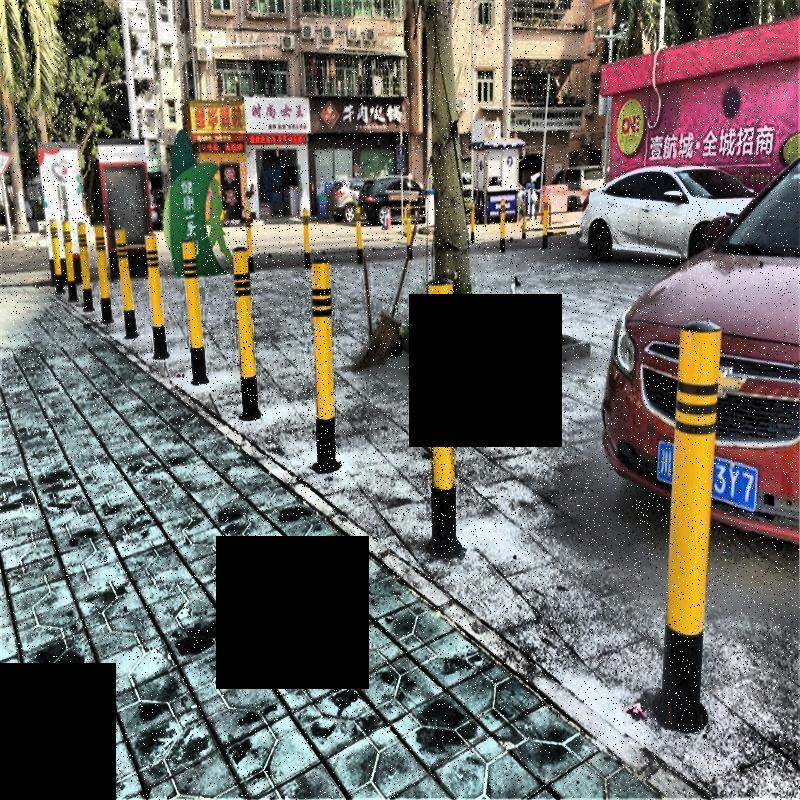bench: (417, 269, 471, 559), (302, 249, 342, 478), (225, 241, 261, 427)
